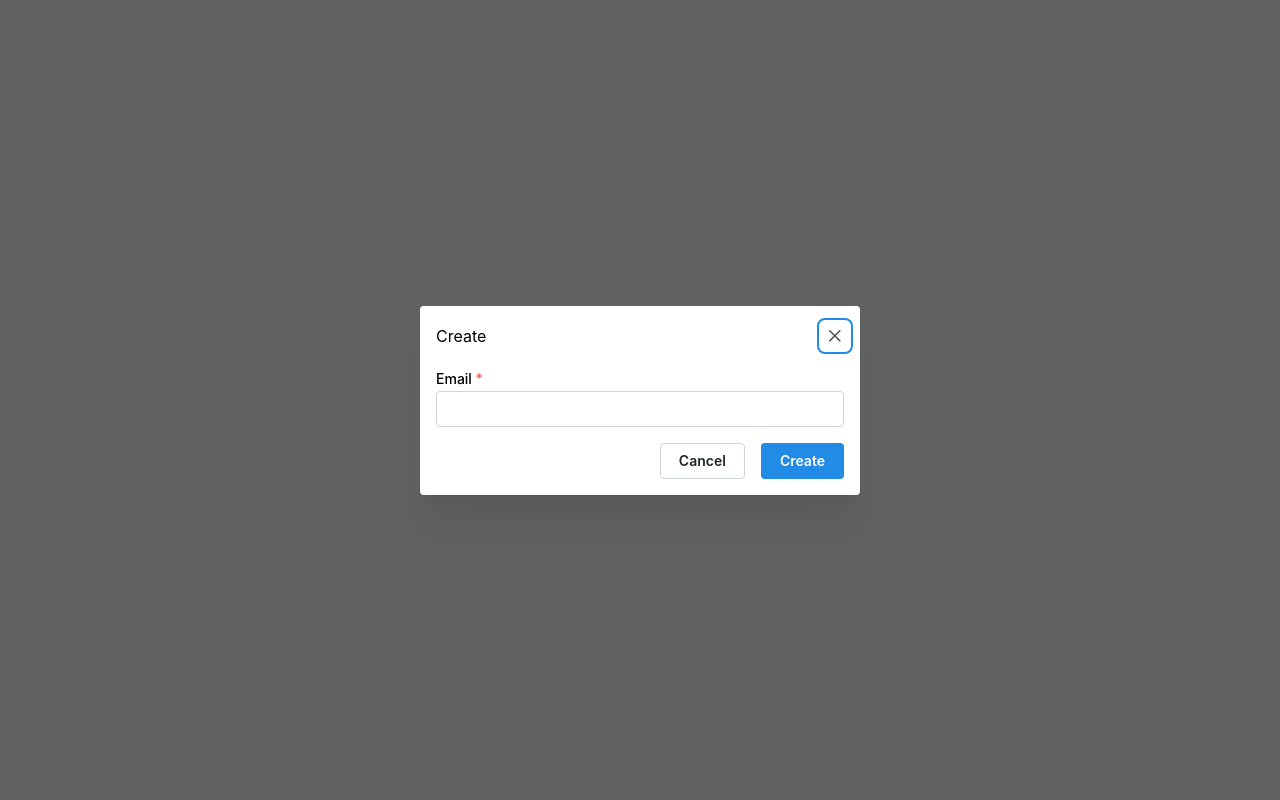
Test: CommandModal › form: server 'invalid' shows the field error and keeps modal open
Type "a@b.com" into the field labelled "Email".
click(640, 408); type("a@b.com")  # box [436,390,844,426]
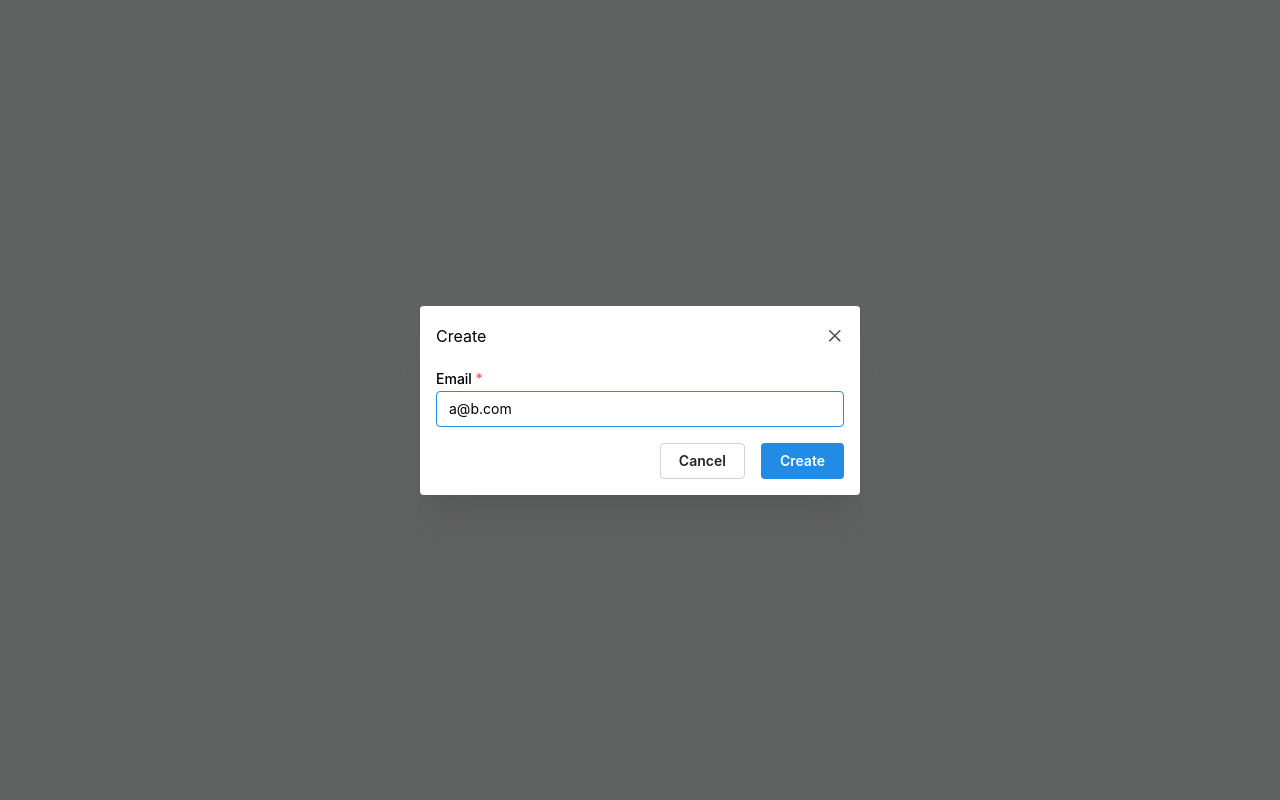
Click the button "Create".
click(802, 460)  # box [761,442,844,478]
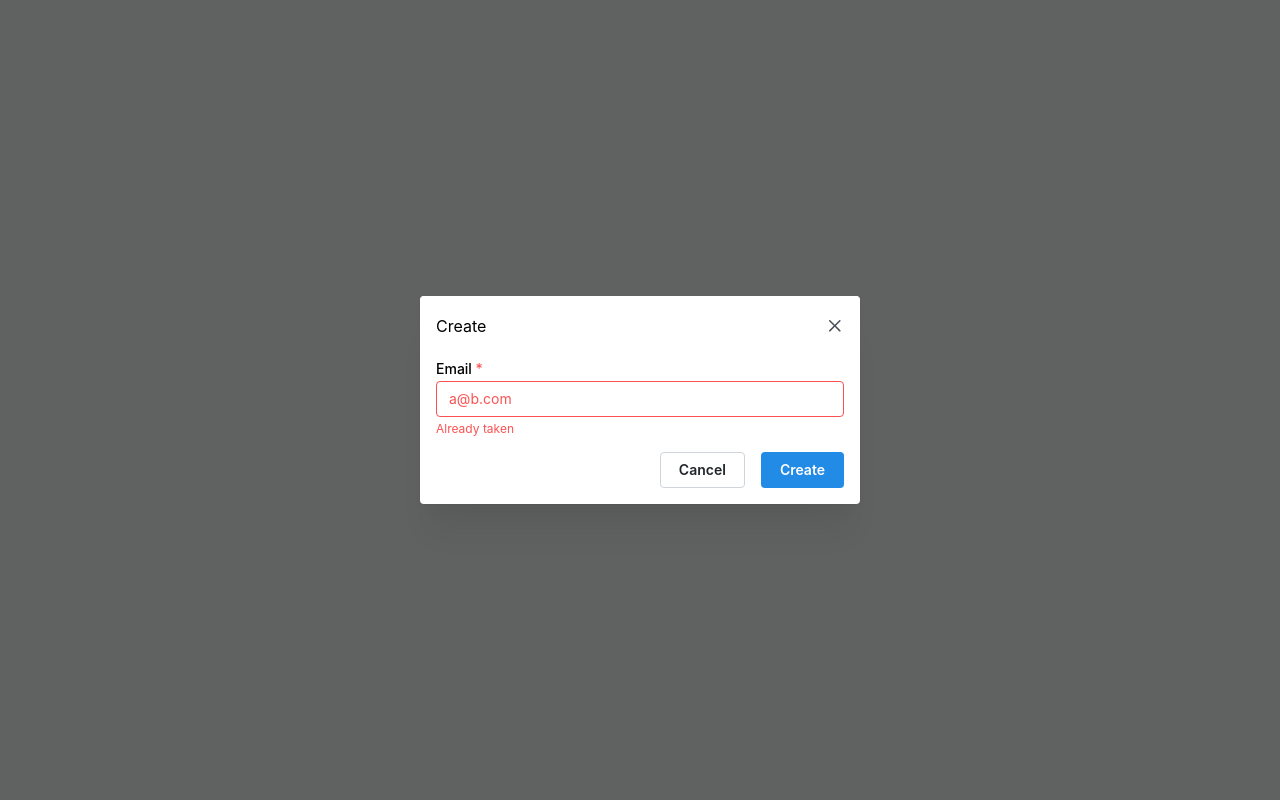
Result: the text "Already taken" is shown at [436,421,514,436]
